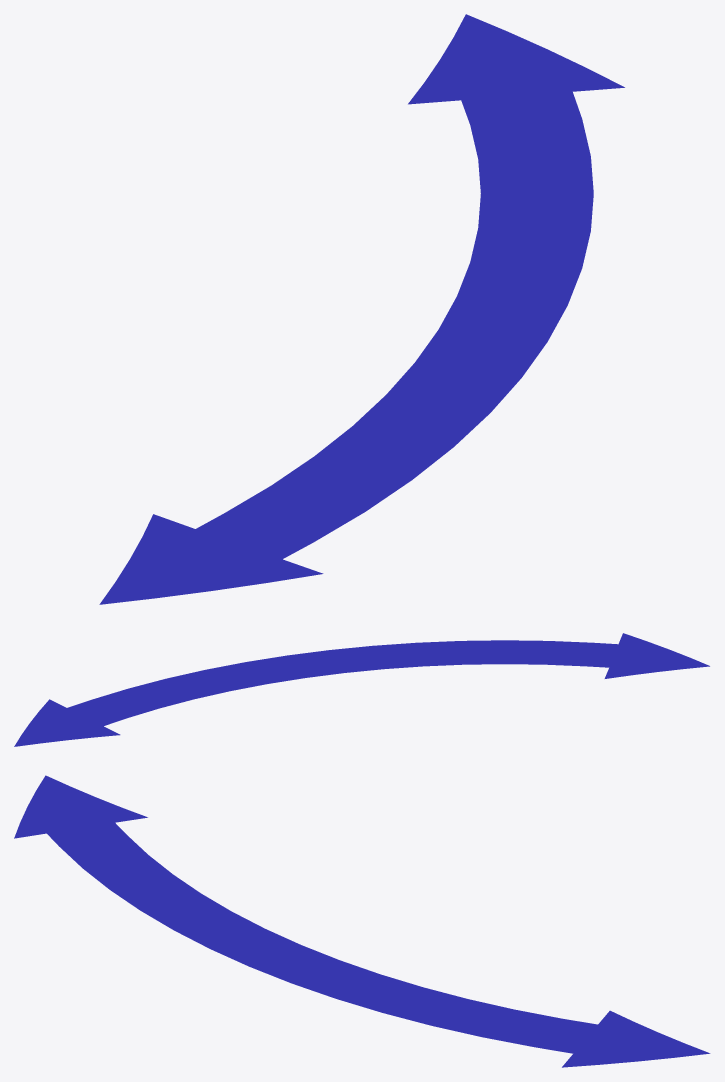
Rendered from arrow_2D.glb.
The picture shows the model from 3 angles, top to bottom: view 1: azimuth 30°, elevation 25°; view 2: azimuth 150°, elevation 25°; view 3: azimuth 270°, elevation 25°; orthographic projection. The views are drawn at different scales.
Visible parts, largest first — view 1: handles; view 2: handles; view 3: handles.
Part boxes in pixels (x1,y1,x2,y2): handles: (99, 14, 624, 604); handles: (14, 633, 709, 746); handles: (14, 775, 710, 1067).
Bounding box in the file's own units: 0.00142 × 4.82e-10 × 0.00143.
